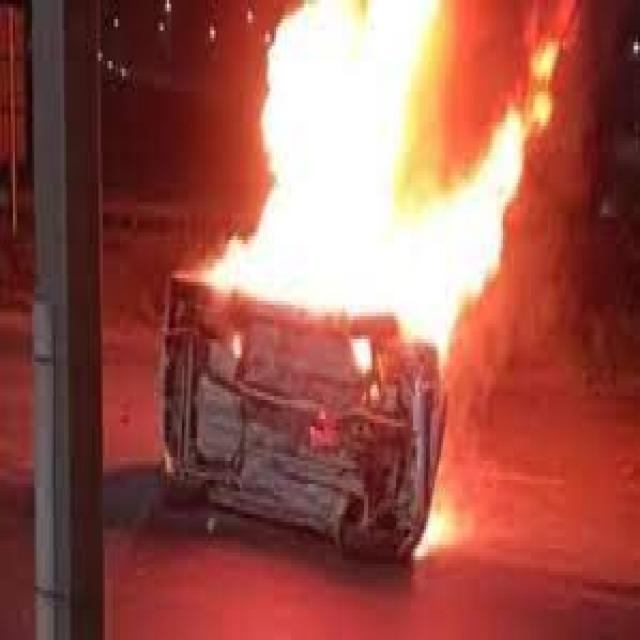fire: (210, 4, 520, 297)
smoke: (407, 4, 582, 346)
